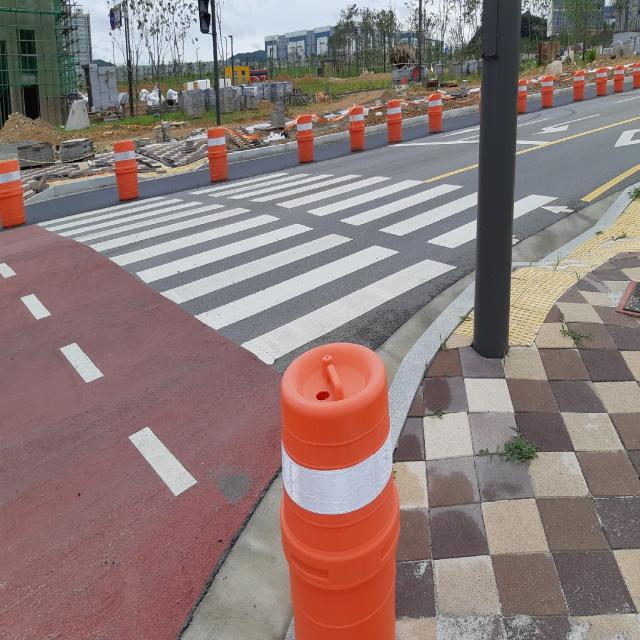횡단보도: (32, 164, 578, 373)
